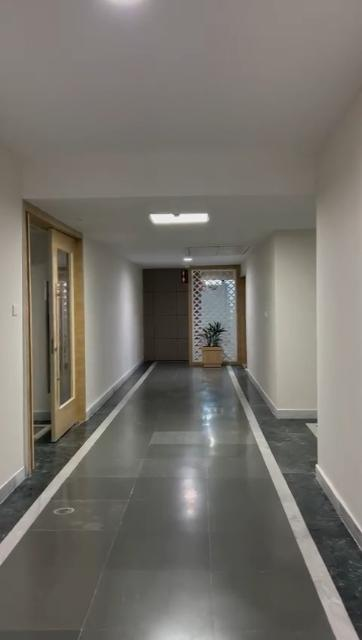door: (21, 200, 91, 432)
floor: (0, 360, 361, 640)
object: (196, 321, 228, 372)
wall: (318, 145, 362, 523), (251, 248, 320, 382), (0, 146, 24, 464), (92, 240, 144, 382)
